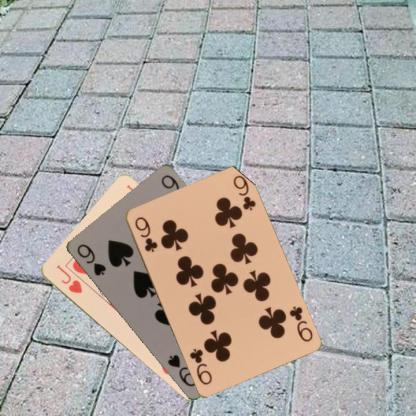9c: (286, 303, 314, 343), (132, 213, 159, 254)
9s: (74, 241, 107, 277)
Jh: (53, 262, 83, 294)
